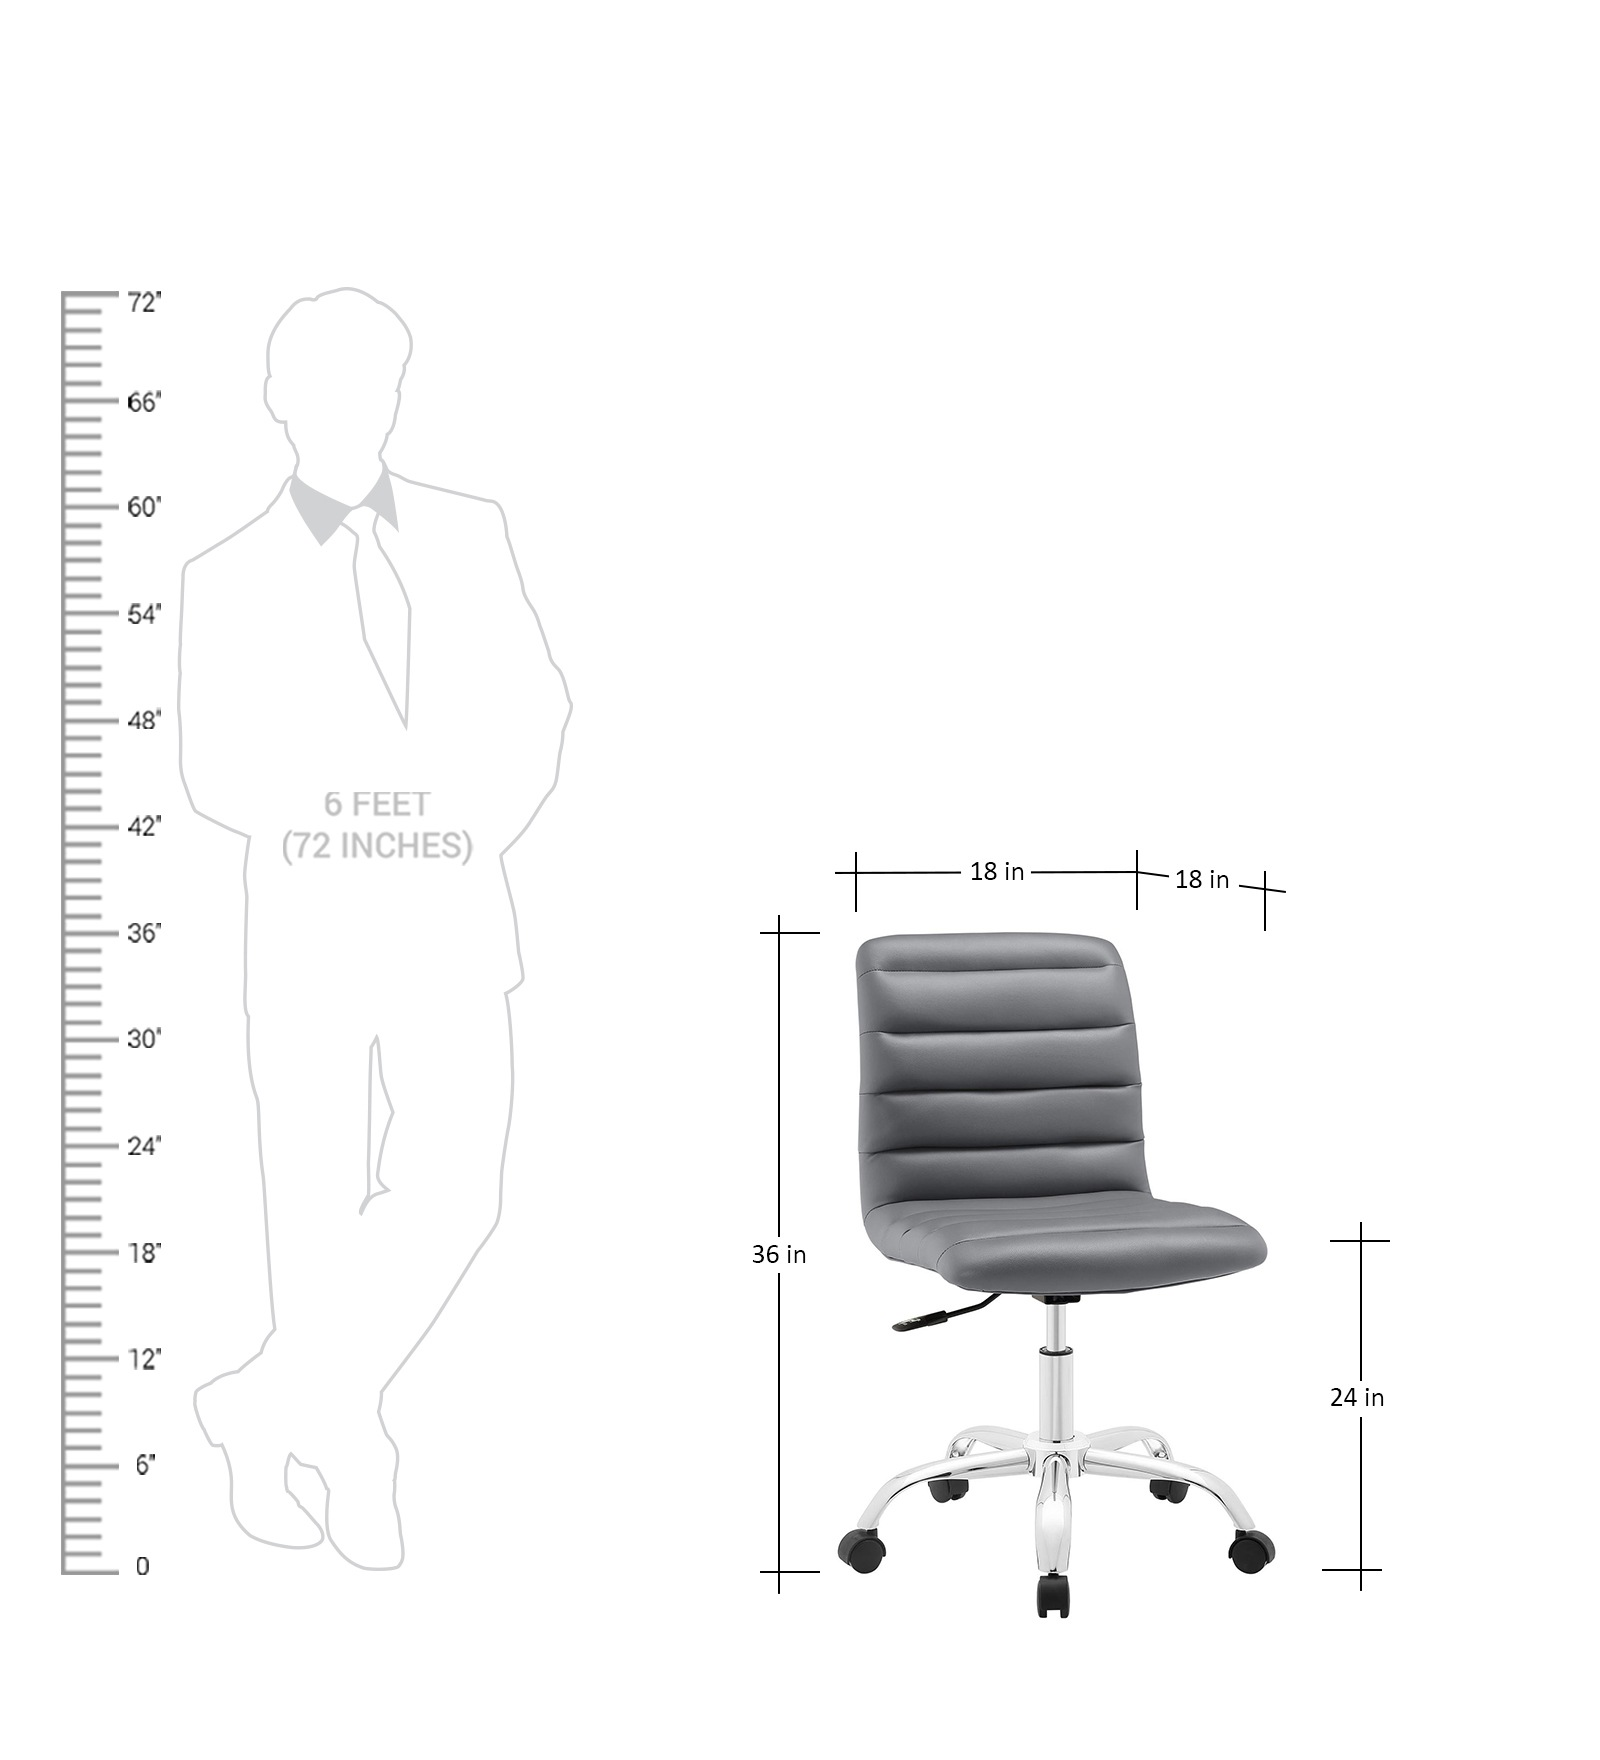Tangy Ergonomic Chair in Grey Leatherette by Exclusive Furniture: (826, 926, 1290, 1651)
